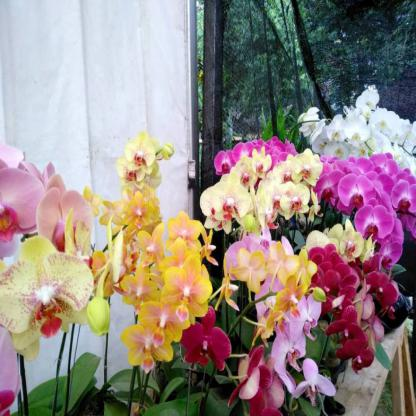ANGGREK: (23, 114, 414, 401)
